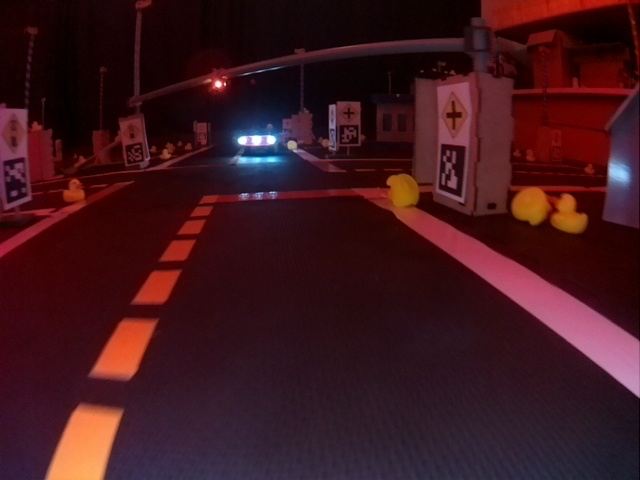Duckie: (552, 192, 588, 234), (513, 187, 547, 225), (386, 172, 418, 208), (64, 179, 85, 203), (162, 151, 169, 158)
Duckiebot: (235, 130, 279, 154)
Intersection sign: (440, 89, 470, 141), (340, 103, 357, 120)
QR code: (437, 143, 467, 200), (3, 157, 29, 205), (123, 145, 144, 165), (339, 126, 359, 145), (329, 129, 338, 149)
Signal sign: (2, 112, 26, 153), (122, 121, 141, 141)
Traffic light: (210, 71, 229, 93)
